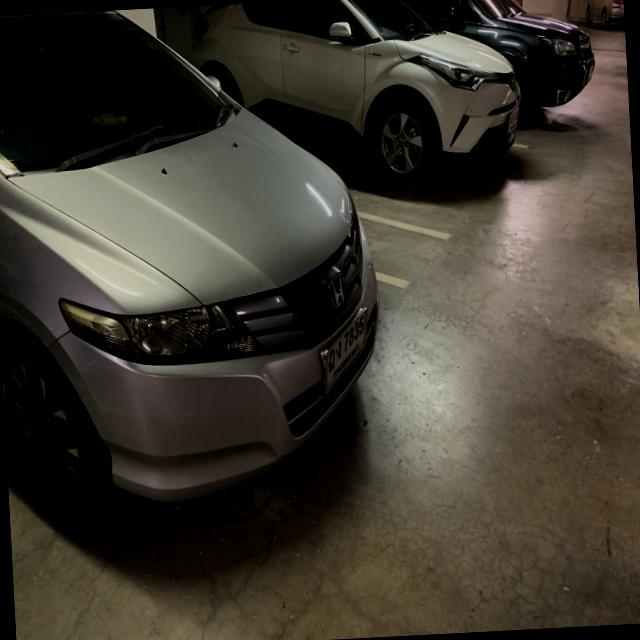license_plate: (316, 303, 374, 400)
